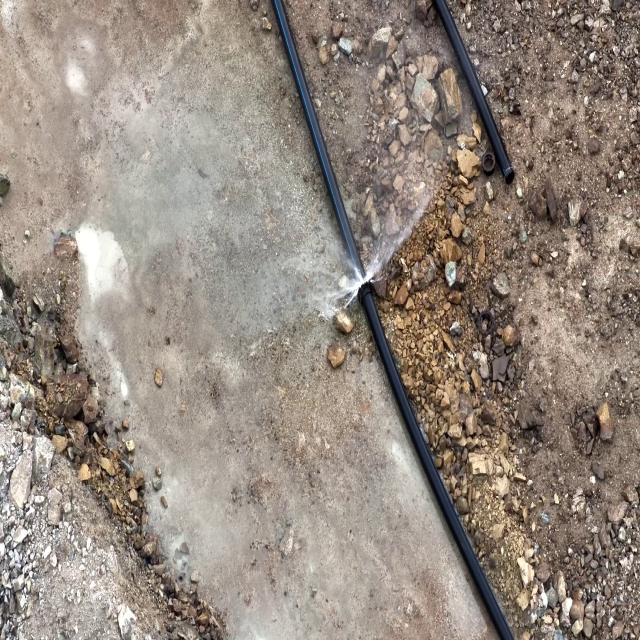leak: (312, 194, 439, 320)
